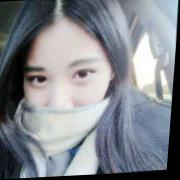WRONG: (20, 38, 115, 145)
